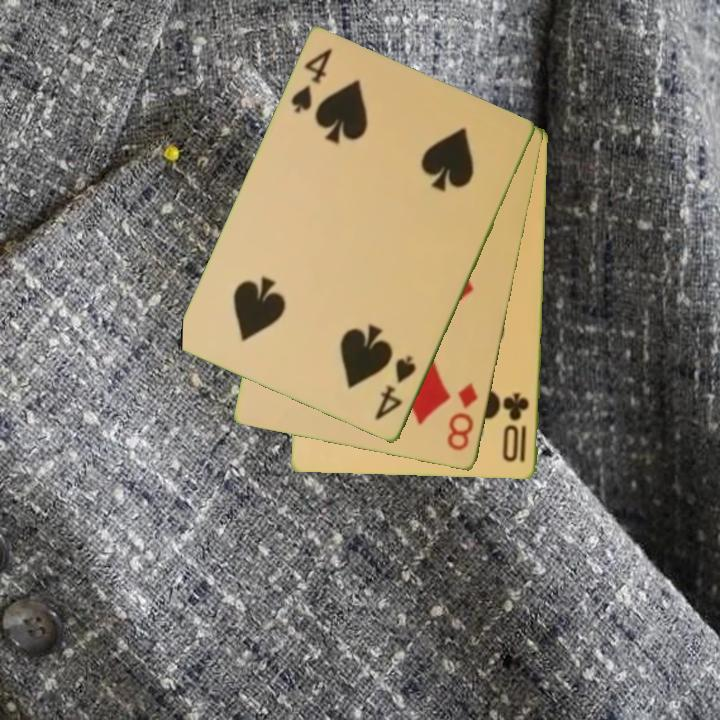10c: (500, 389, 532, 466)
4s: (287, 45, 336, 117), (371, 352, 419, 424)
8d: (444, 379, 481, 454)
